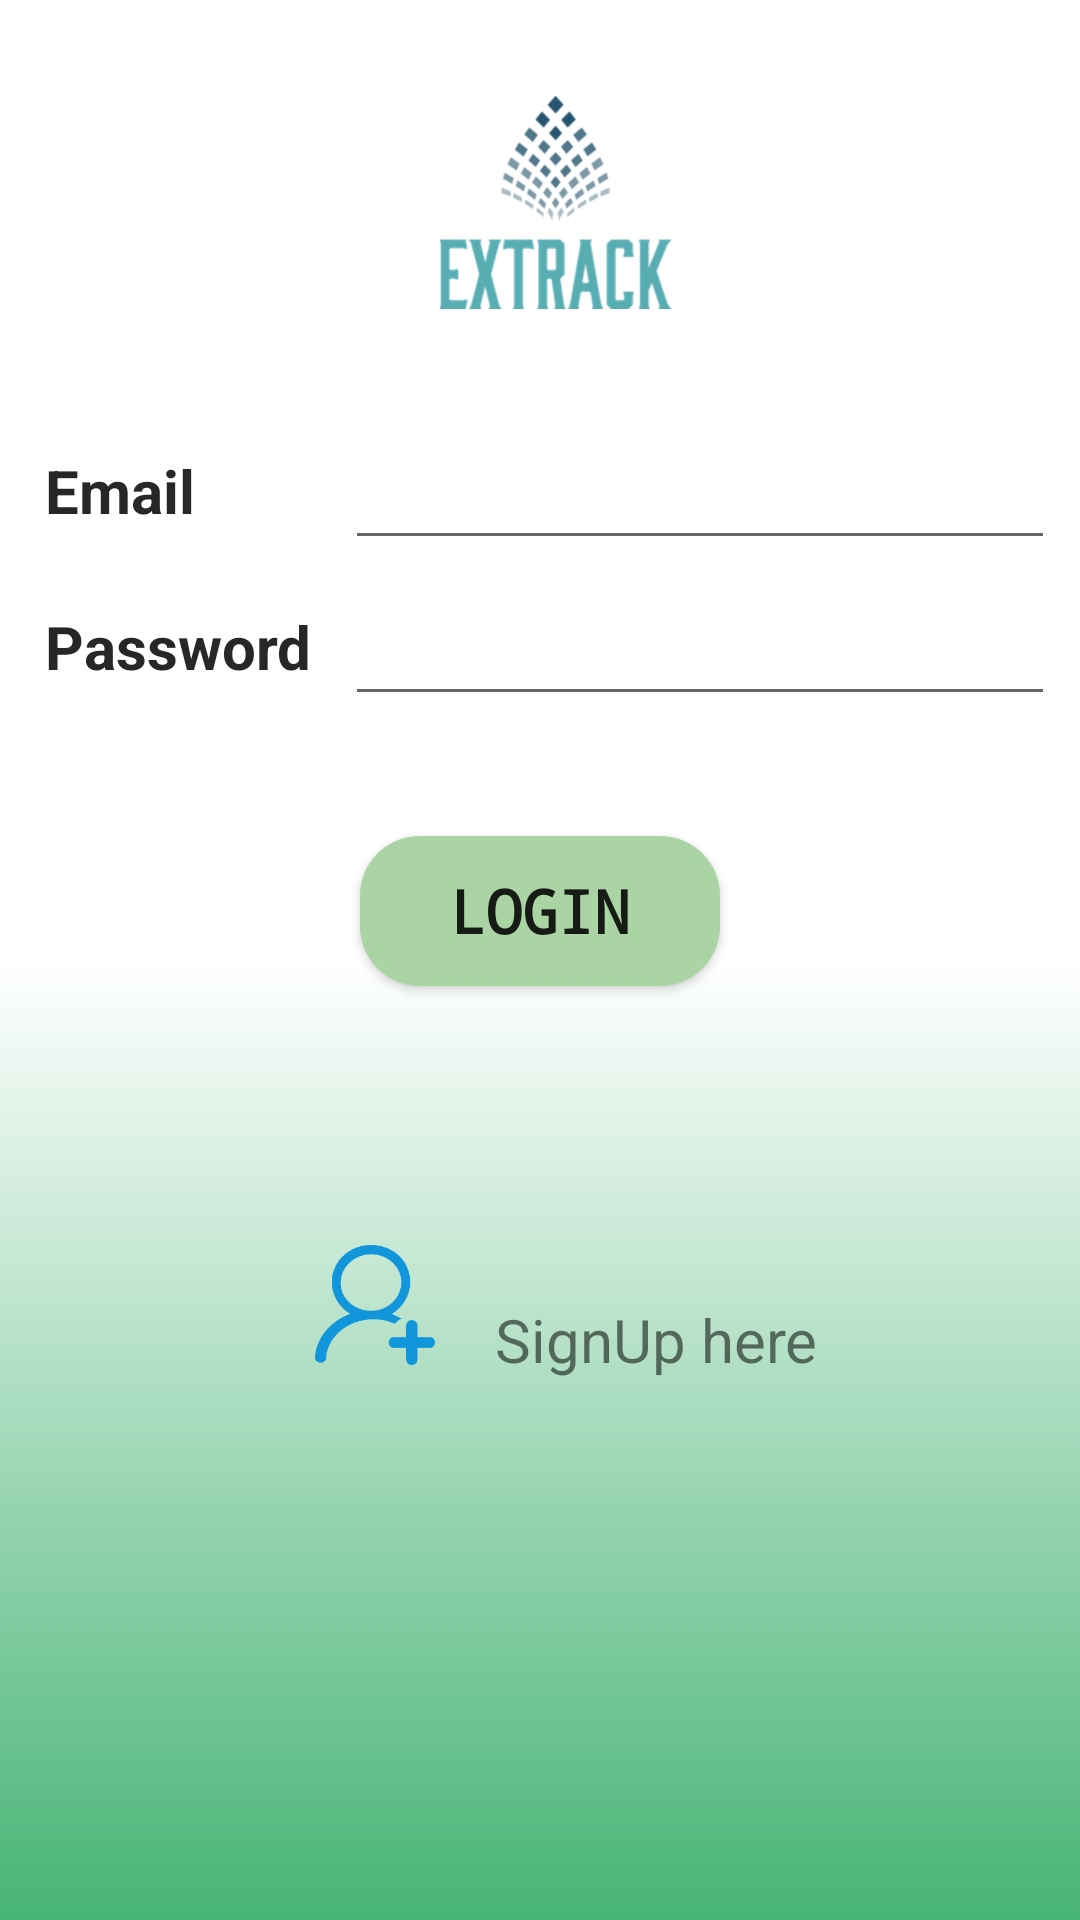

Icon bounding boxes for this 1080px x 1920px phone screenshot, format rect(x1, y1, x2, y2):
user: rect(300, 1230, 450, 1365)
